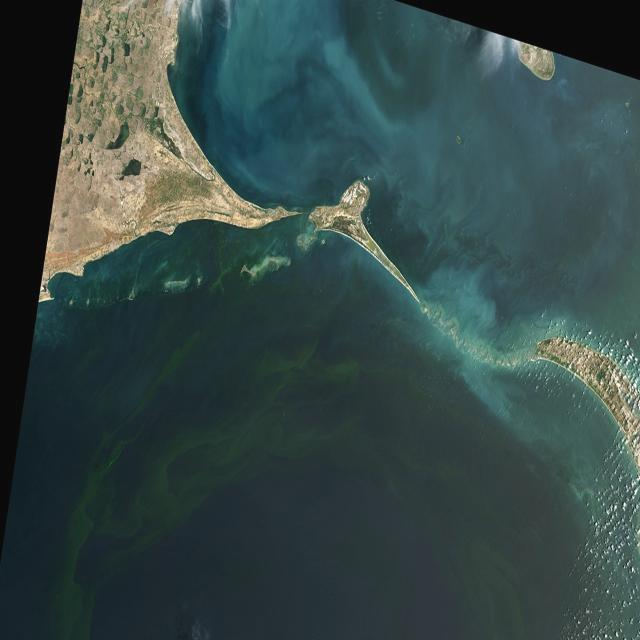algal: (71, 332, 437, 638), (457, 438, 578, 639), (81, 285, 302, 357)
oil spill: (260, 3, 557, 235), (199, 6, 310, 195), (576, 109, 639, 334)
